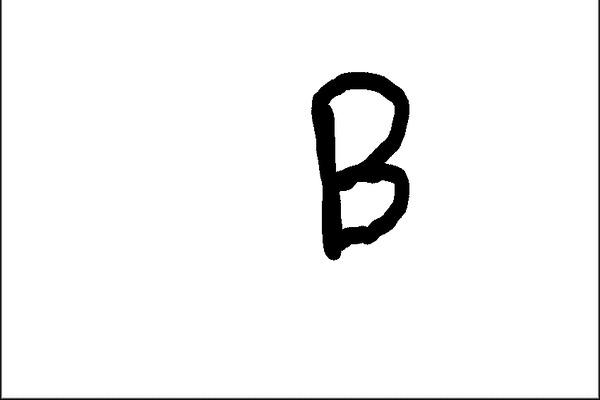B: (304, 64, 414, 266)
